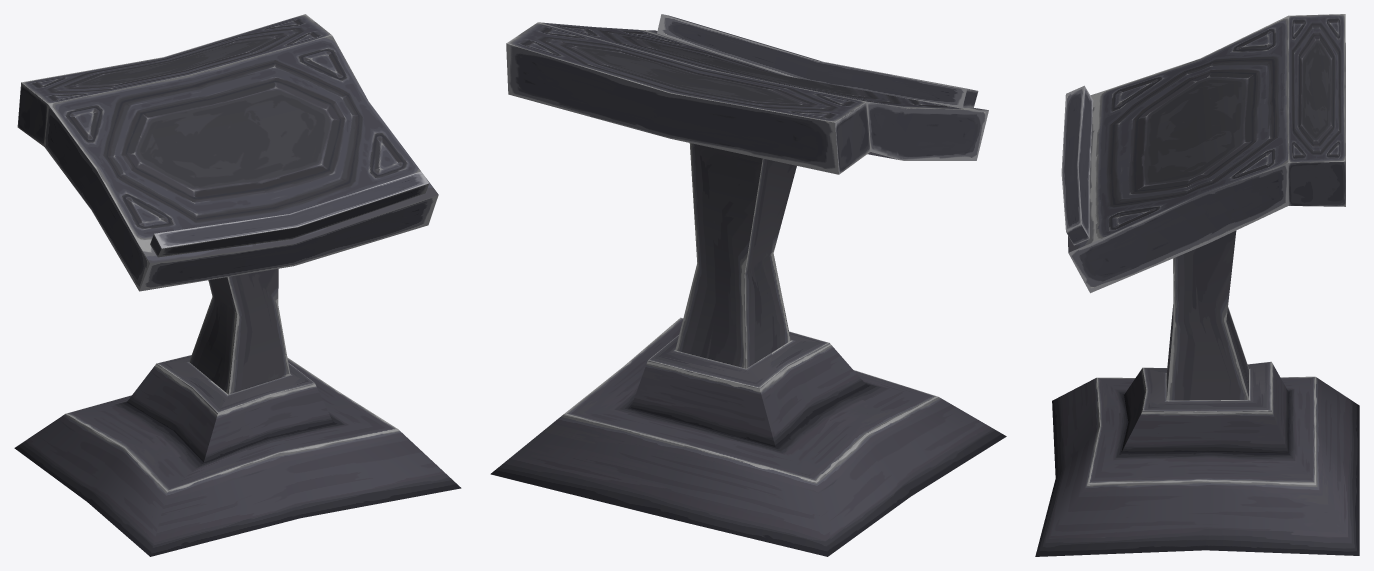
The model's file is SM_PROP_readingstand_dungeon.fbx.
3 views of the same model, side by side, from view 1: azimuth 30°, elevation 25°; view 2: azimuth 150°, elevation 25°; view 3: azimuth 270°, elevation 25° (orthographic). The views are drawn at different scales.
Visible parts, largest first — view 1: SM_PROP_readingstand_dungeon; view 2: SM_PROP_readingstand_dungeon; view 3: SM_PROP_readingstand_dungeon.
Part boxes in pixels (left/top/right/bottom): SM_PROP_readingstand_dungeon: left=14, top=14, right=461, bottom=556; SM_PROP_readingstand_dungeon: left=490, top=14, right=1006, bottom=556; SM_PROP_readingstand_dungeon: left=1035, top=14, right=1359, bottom=556.
Bounding box in the file's own units: 73.77 × 86.27 × 64.61.
